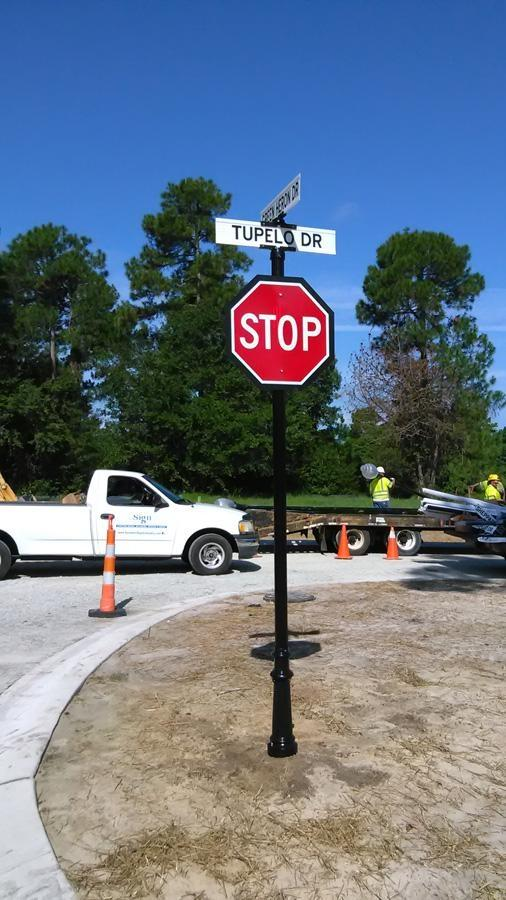Stop-Sign: (224, 277, 340, 387)
